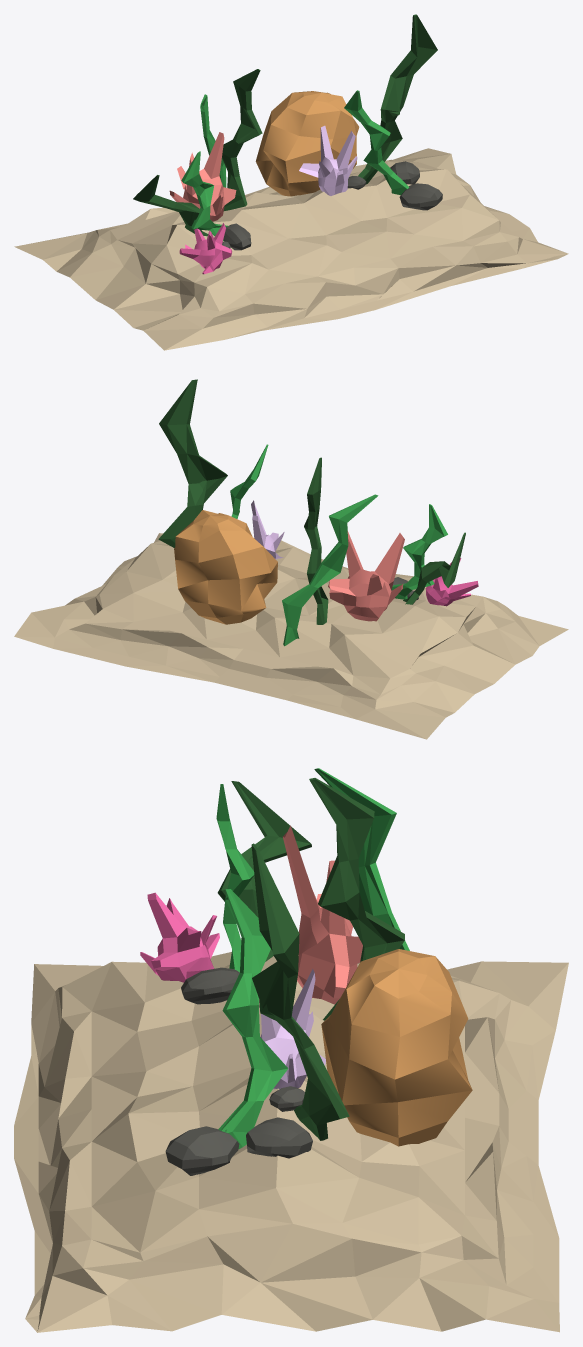
The model's file is Water Stage_2.fbx.
3 renders of one model, top to bottom at view 1: azimuth 30°, elevation 25°; view 2: azimuth 150°, elevation 25°; view 3: azimuth 270°, elevation 25°, orthographic. The views are drawn at different scales.
Visible parts, largest first — view 1: pCube2, pSphere1, pCube5, pCube7, pCube16, pCube15, pCube6, pCube17, pCube3, pCube4, pCube11, pCube8 (+2 smaller); view 2: pCube2, pSphere1, pCube5, pCube15, pCube8, pCube7, pCube3, pCube4, pCube17, pCube16, pCube6; view 3: pCube2, pSphere1, pCube5, pCube6, pCube7, pCube15, pCube17, pCube8, pCube4, pCube16, pCube11, pCube3 (+2 smaller).
Part boxes in pixels (box(x1,y1,x2,y2)): pCube2: box(14, 148, 568, 350); pSphere1: box(255, 91, 359, 196); pCube5: box(358, 14, 437, 184); pCube7: box(222, 69, 262, 210); pCube16: box(299, 125, 357, 195); pCube15: box(169, 132, 236, 221); pCube6: box(344, 90, 409, 195); pCube17: box(179, 223, 232, 274); pCube3: box(181, 151, 228, 240); pCube4: box(133, 175, 208, 236); pCube11: box(399, 183, 442, 210); pCube8: box(200, 94, 226, 187); pCube2: box(14, 533, 568, 739); pSphere1: box(174, 510, 277, 624); pCube5: box(158, 379, 227, 547); pCube15: box(328, 531, 404, 621); pCube8: box(282, 494, 378, 646); pCube7: box(304, 457, 328, 624); pCube3: box(391, 504, 447, 599); pCube4: box(403, 532, 465, 604); pCube17: box(425, 558, 478, 606); pCube16: box(251, 500, 284, 559); pCube6: box(230, 444, 268, 518); pCube2: box(14, 952, 568, 1332); pSphere1: box(321, 949, 472, 1146); pCube5: box(251, 843, 349, 1140); pCube6: box(218, 889, 288, 1149); pCube7: box(309, 778, 404, 1020); pCube15: box(283, 825, 362, 1004); pCube17: box(140, 892, 219, 982); pCube8: box(314, 768, 409, 950); pCube4: box(217, 781, 311, 961); pCube16: box(260, 969, 325, 1089); pCube11: box(165, 1126, 239, 1175); pCube3: box(216, 784, 254, 972).
Size of the model in its own units: 19.06 by 9.82 by 12.02.
